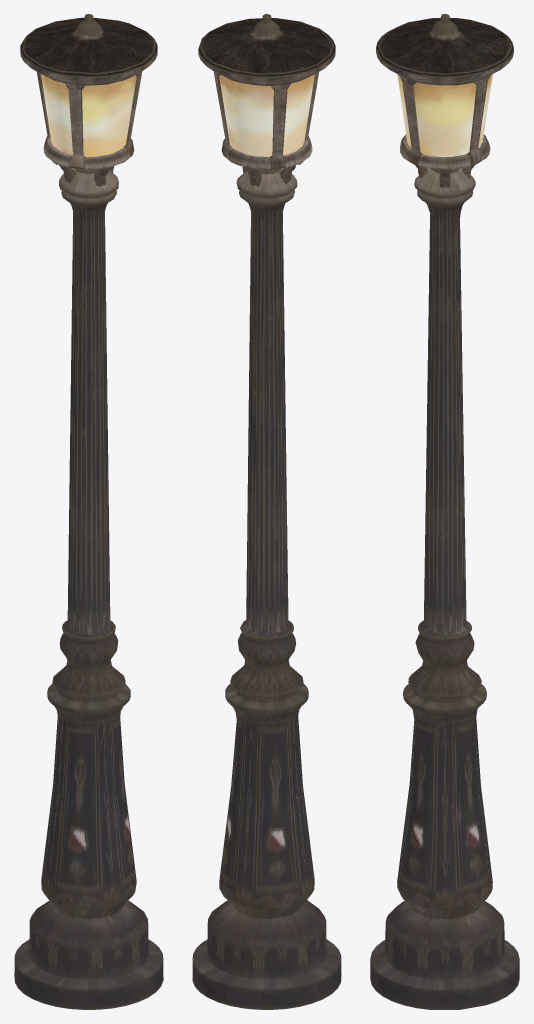
Rendered from lantern.glb.
3 views of the same model, side by side, from view 1: azimuth 30°, elevation 25°; view 2: azimuth 150°, elevation 25°; view 3: azimuth 270°, elevation 25° (orthographic).
Parts seen in each view (by area): view 1: pCube8_lambert1_0; view 2: pCube8_lambert1_0; view 3: pCube8_lambert1_0.
Boxes of the visible parts, x1,y1,x2,y2 form: pCube8_lambert1_0: [14, 14, 163, 1009]; pCube8_lambert1_0: [192, 14, 341, 1009]; pCube8_lambert1_0: [370, 14, 519, 1009].
Size of the model in its own units: 0.0999 by 0.7117 by 0.1.
1 material, 1 textured.
